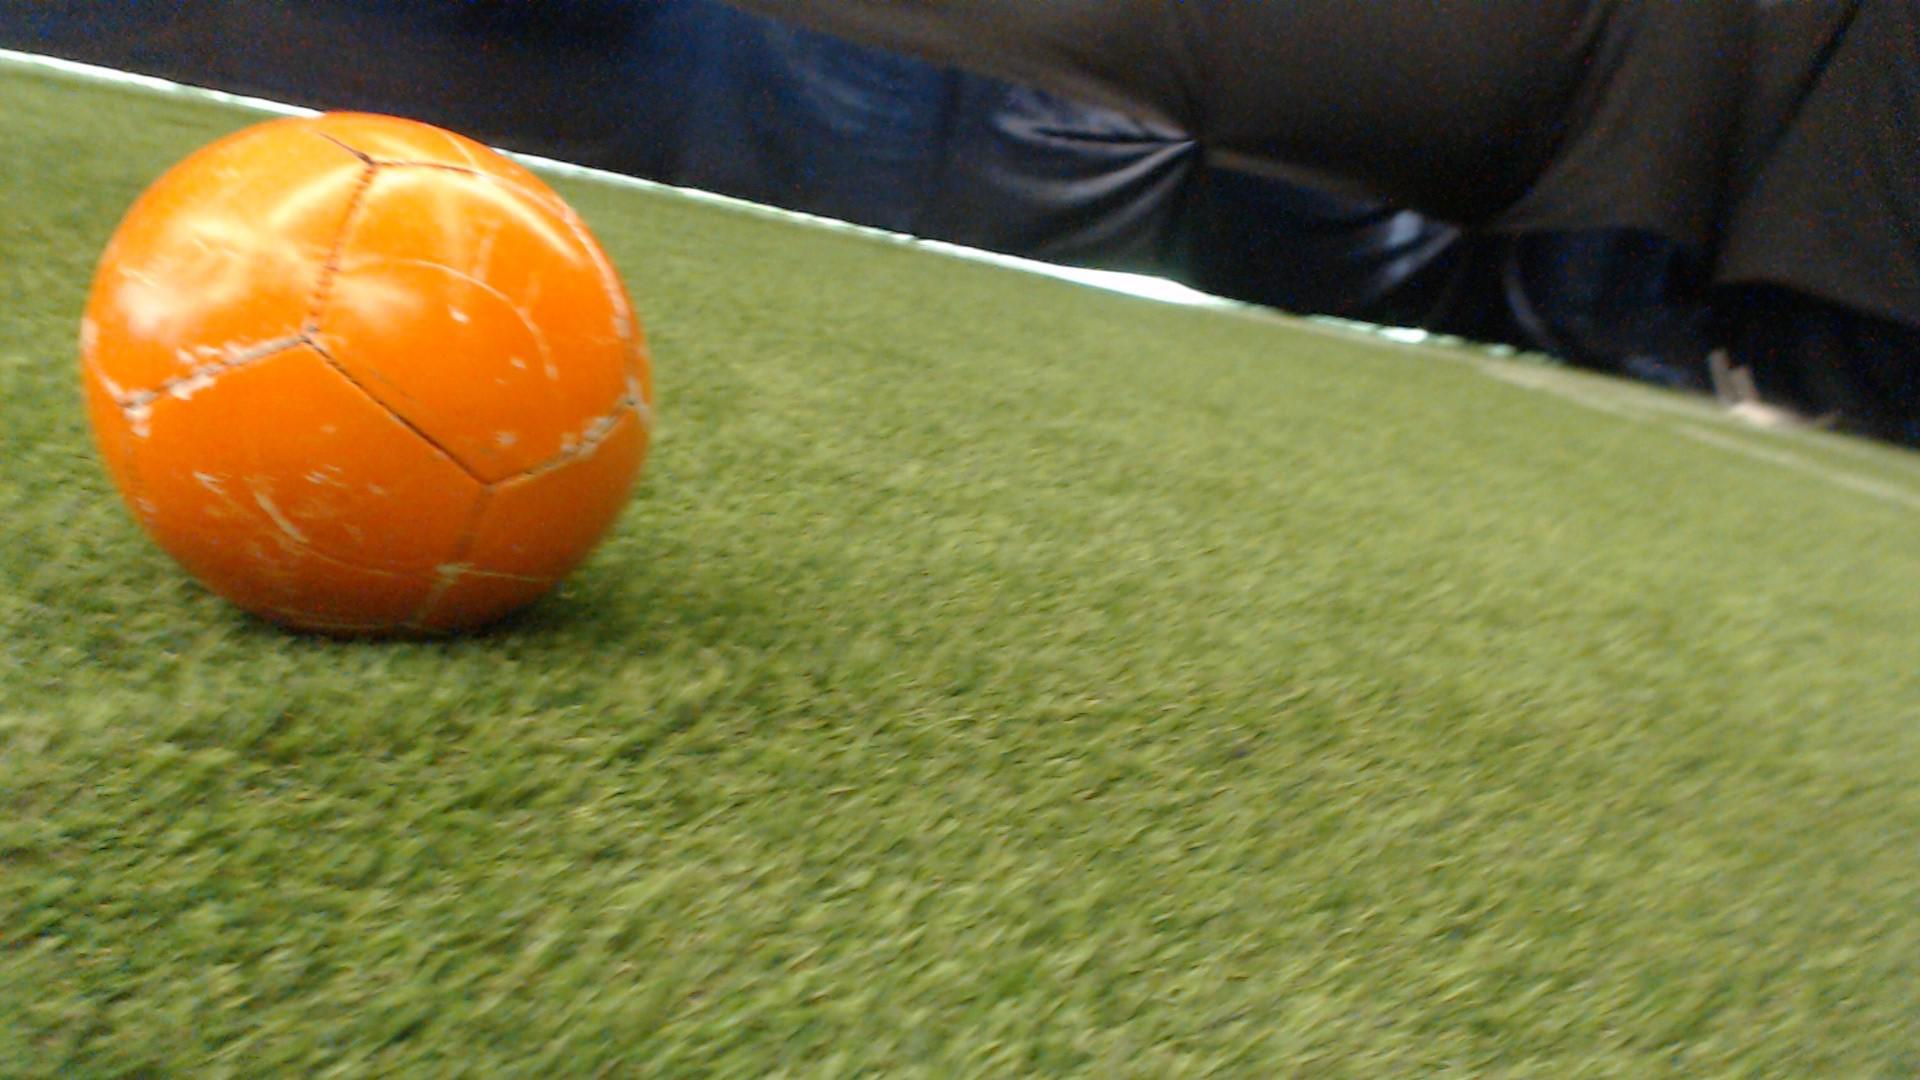bola: (47, 66, 703, 692)
